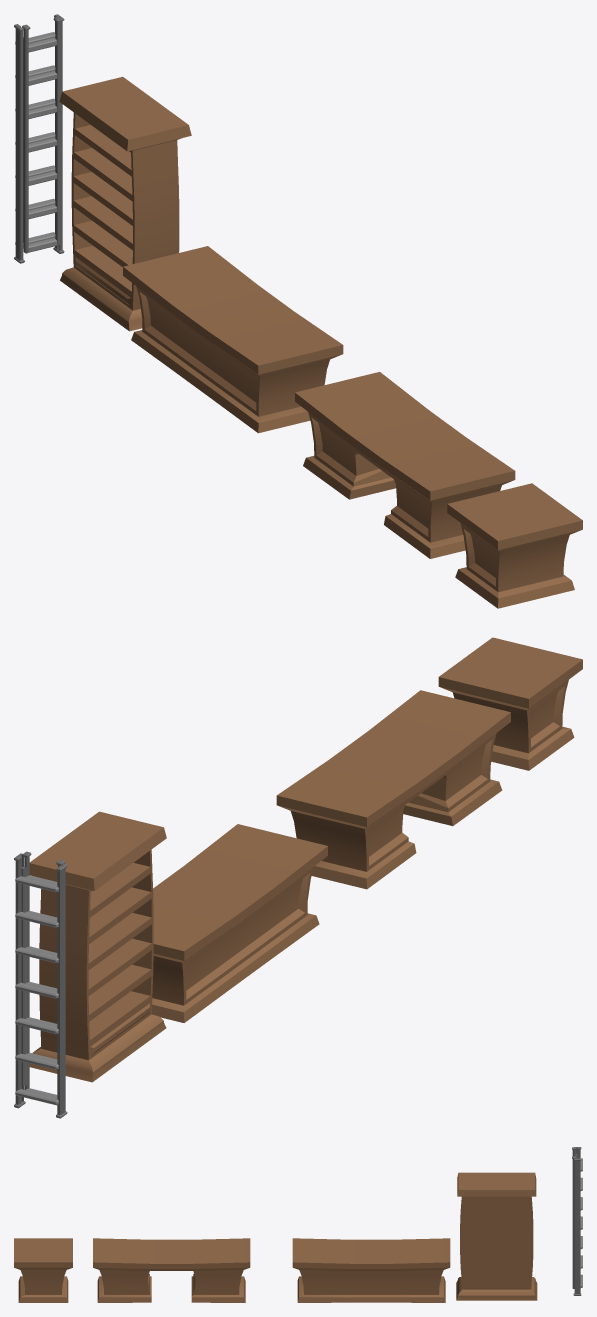
The model's file is Spoor_Furniture_group.fbx.
The picture shows the model from 3 angles, top to bottom: view 1: azimuth 30°, elevation 25°; view 2: azimuth 150°, elevation 25°; view 3: azimuth 270°, elevation 25°; orthographic projection. The views are drawn at different scales.
Visible parts, largest first — view 1: Cube.053, Cube.052, Cube.054, Cube.055, Ladder_Extend, Ladder_Frame; view 2: Cube.052, Cube.054, Cube.053, Cube.055, Ladder_Frame, Ladder_Extend; view 3: Cube.053, Cube.052, Cube.054, Cube.055, Ladder_Frame, Ladder_Extend.
Boxes of the visible parts, bbox=[...] form: Cube.053: bbox=[123, 246, 343, 433]; Cube.052: bbox=[59, 76, 191, 331]; Cube.054: bbox=[295, 372, 515, 558]; Cube.055: bbox=[447, 483, 582, 608]; Ladder_Extend: bbox=[22, 17, 61, 253]; Ladder_Frame: bbox=[14, 14, 64, 263]; Cube.052: bbox=[29, 811, 166, 1082]; Cube.054: bbox=[276, 690, 510, 889]; Cube.053: bbox=[151, 824, 327, 1022]; Cube.055: bbox=[438, 637, 582, 770]; Ladder_Frame: bbox=[14, 853, 67, 1118]; Ladder_Extend: bbox=[21, 851, 65, 1097]; Cube.053: bbox=[292, 1238, 450, 1302]; Cube.052: bbox=[456, 1172, 537, 1300]; Cube.054: bbox=[93, 1238, 250, 1302]; Cube.055: bbox=[14, 1238, 72, 1302]; Ladder_Frame: bbox=[573, 1147, 582, 1295]; Ladder_Extend: bbox=[572, 1147, 577, 1288].
Size of the model in its own units: 223 by 593 by 2228.
